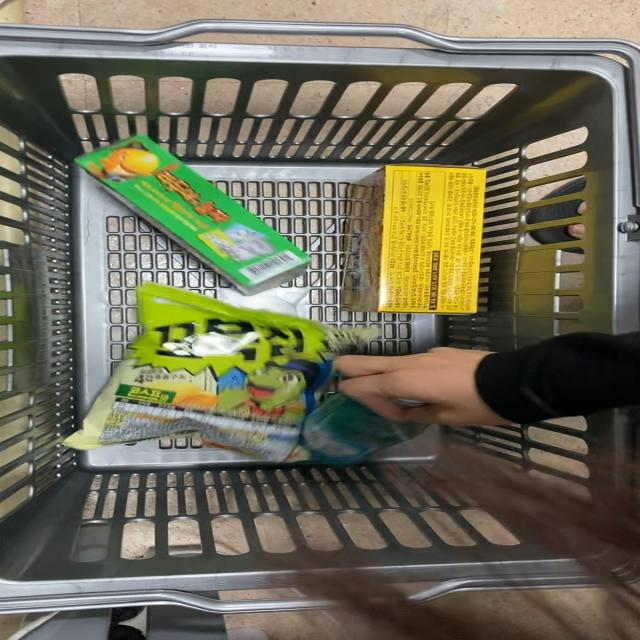ggobukchip: (75, 295, 308, 451)
goraebob: (78, 127, 308, 289)
jinro: (309, 364, 411, 459)
minicrab: (327, 155, 481, 312)
